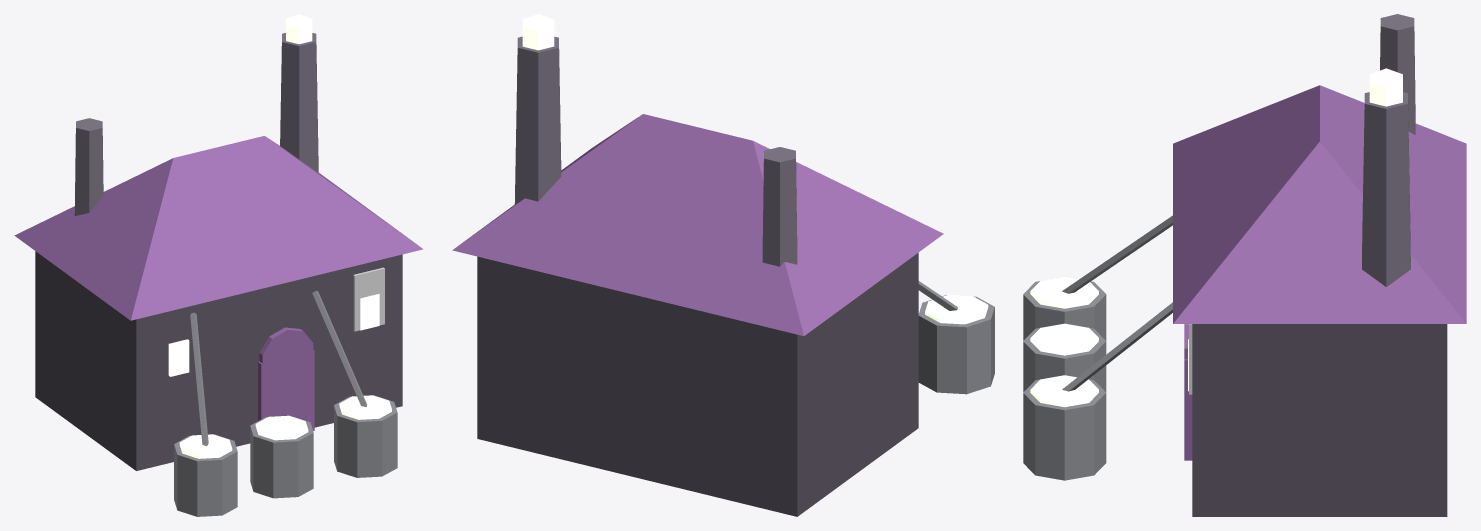
The picture shows the model from 3 angles, left to right: view 1: azimuth 30°, elevation 25°; view 2: azimuth 150°, elevation 25°; view 3: azimuth 270°, elevation 25°; orthographic projection. The views are drawn at different scales.
Visible parts, largest first — view 1: body; view 2: body; view 3: body.
Part boxes in pixels (x1,y1,x2,y2): body: (14, 14, 422, 516); body: (452, 14, 994, 516); body: (1023, 14, 1466, 516).
Size of the model in its own units: 7.7 by 8.6 by 8.
